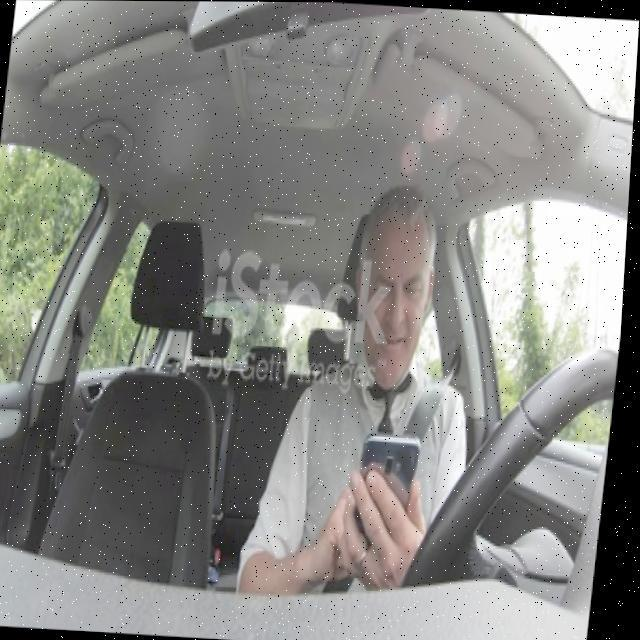PhoneCall: (354, 432, 426, 564)
